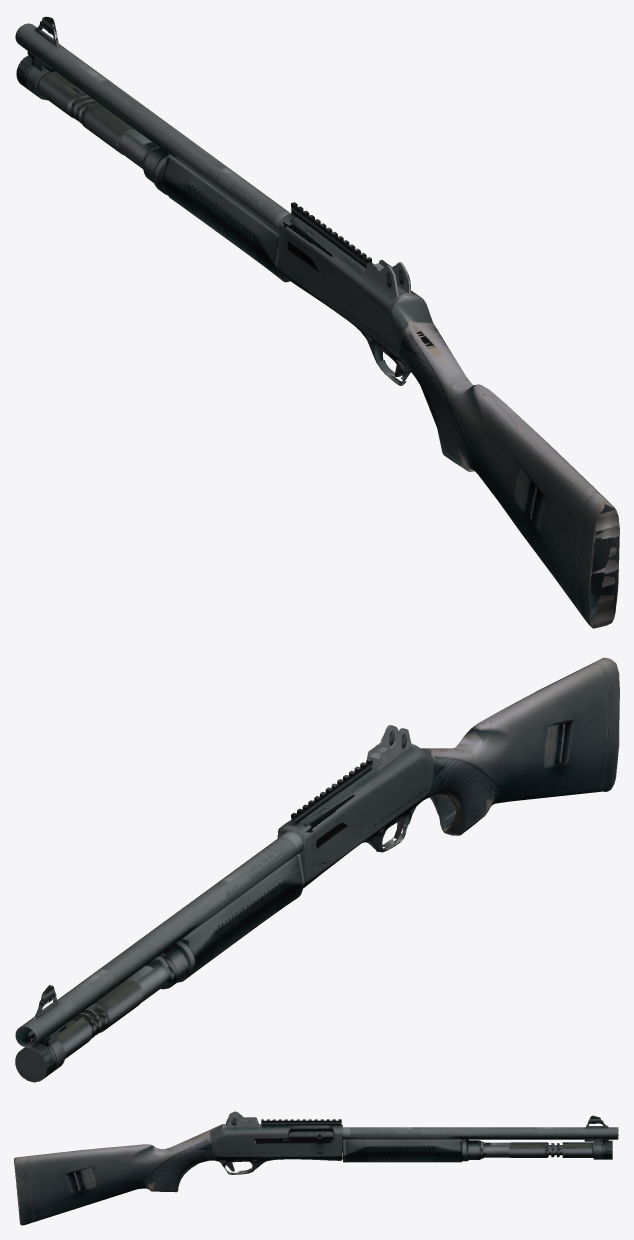
Rendered from benneli_m4.fbx.
3 views of the same model, one above another, from view 1: azimuth 30°, elevation 25°; view 2: azimuth 150°, elevation 25°; view 3: azimuth 270°, elevation 25° (orthographic). The views are drawn at different scales.
Parts seen in each view (by area): view 1: Cube.002; view 2: Cube.002; view 3: Cube.002.
Boxes of the visible parts, left/top/right/bottom form: Cube.002: left=15, top=16, right=619, bottom=628; Cube.002: left=15, top=657, right=619, bottom=1082; Cube.002: left=14, top=1111, right=618, bottom=1225.
Bounding box in the file's own units: 33.31 × 179 × 889.
Materials: 2 (1 with a texture image).
